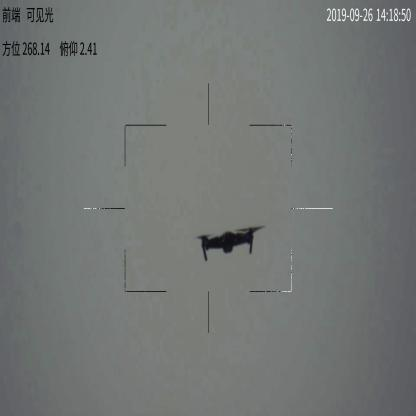uav: (193, 223, 266, 263)
